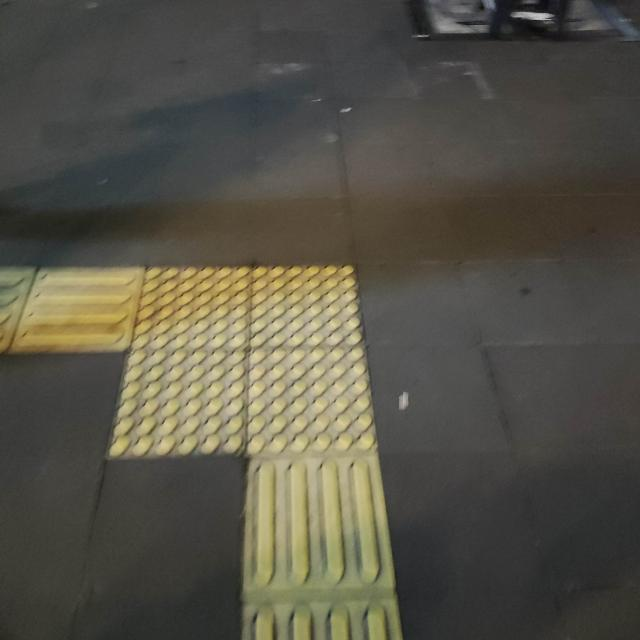kiri: (0, 249, 424, 574)
